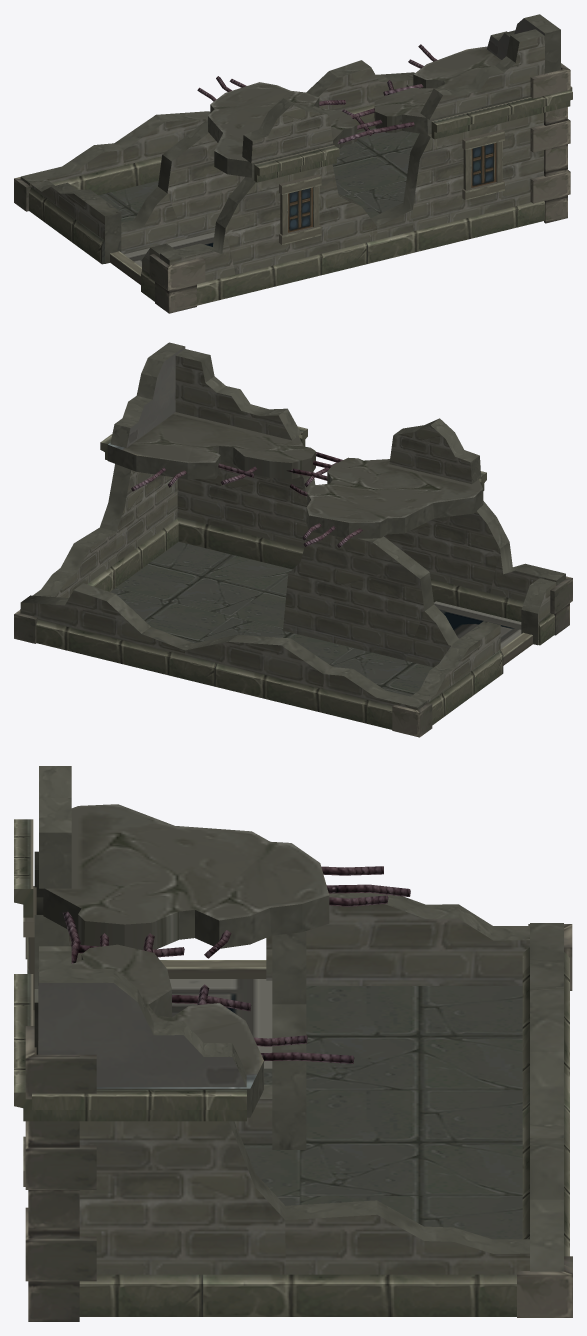
Rendered from break_house_23.fbx.
The picture shows the model from 3 angles, top to bottom: view 1: azimuth 30°, elevation 25°; view 2: azimuth 150°, elevation 25°; view 3: azimuth 270°, elevation 25°; orthographic projection. The views are drawn at different scales.
Parts seen in each view (by area): view 1: break_house_23; view 2: break_house_23; view 3: break_house_23.
Boxes of the visible parts, x1,y1,x2,y2 form: break_house_23: (14,14,572,313); break_house_23: (14,342,572,737); break_house_23: (14,766,572,1321).
Bounding box in the file's own units: 1189 × 523 × 790.
1 material, 1 textured.
